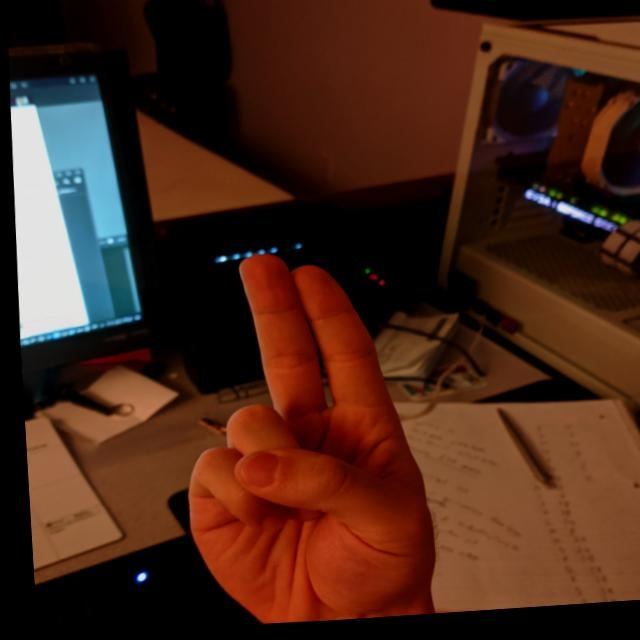U: (159, 243, 444, 631)
